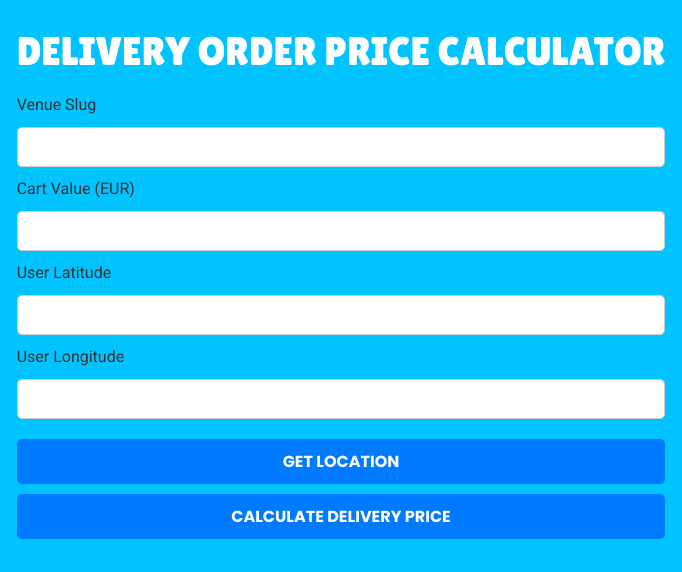
Test case: shows error when latitude or longitude is missing
The image size is (682, 572).
Click the button "Calculate Delivery Price" at (341, 516), box [17, 494, 665, 539]
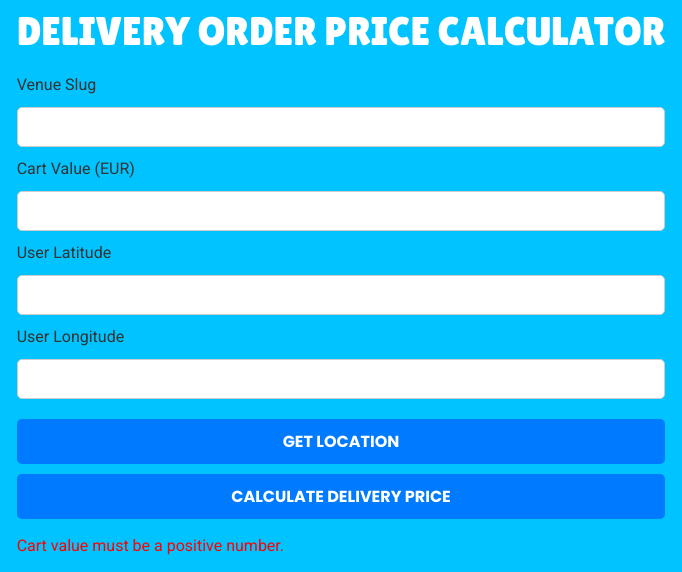
Result: the text "Cart value must be a positive number." is shown at [17, 536, 284, 555]
